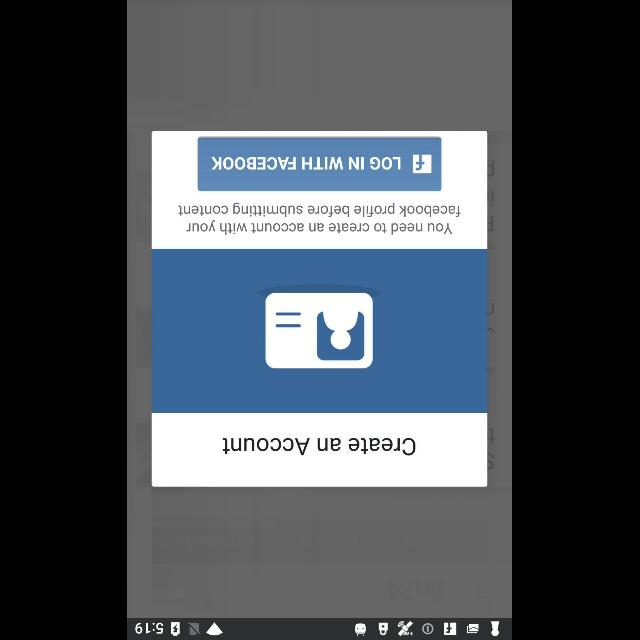image: (258, 284, 380, 368)
panel: (152, 131, 488, 487)
text: (180, 203, 462, 235), (224, 438, 416, 454)
textbutton: (198, 137, 442, 191)
uppertaskbar: (128, 617, 512, 639)
